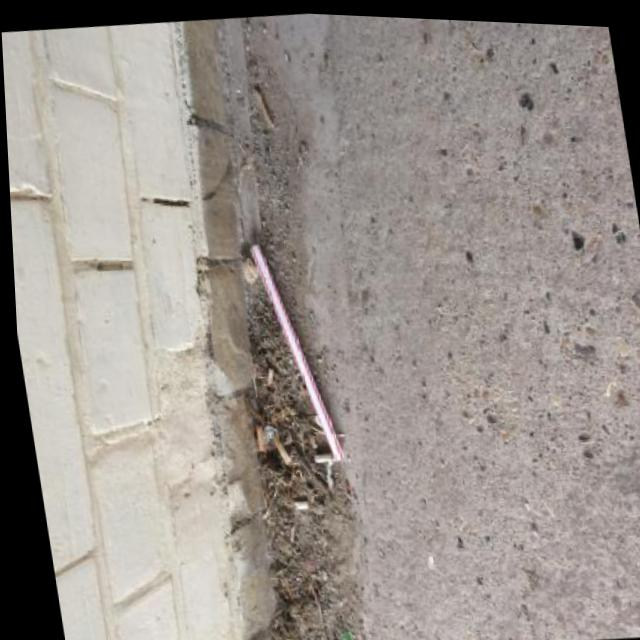plastic: (248, 238, 346, 468)
